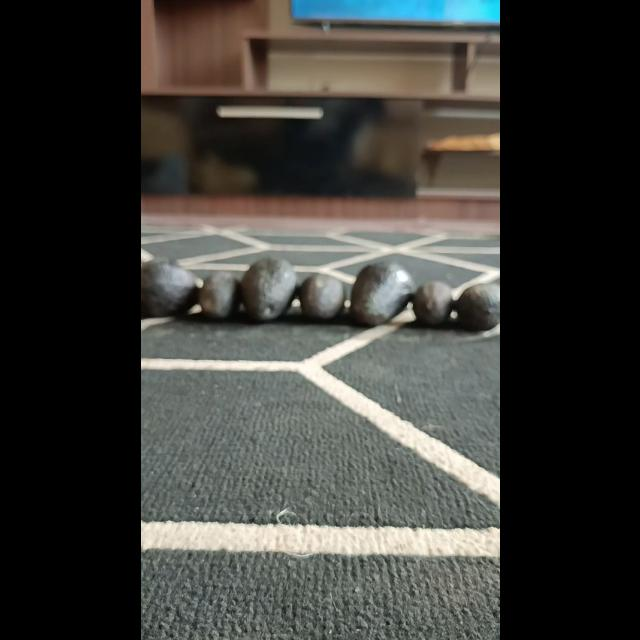Primera: (350, 262, 414, 326), (240, 256, 296, 322), (140, 259, 198, 317)
Segunda: (298, 273, 344, 321), (454, 282, 498, 332), (198, 270, 240, 320)
Tercera: (412, 280, 454, 326)
